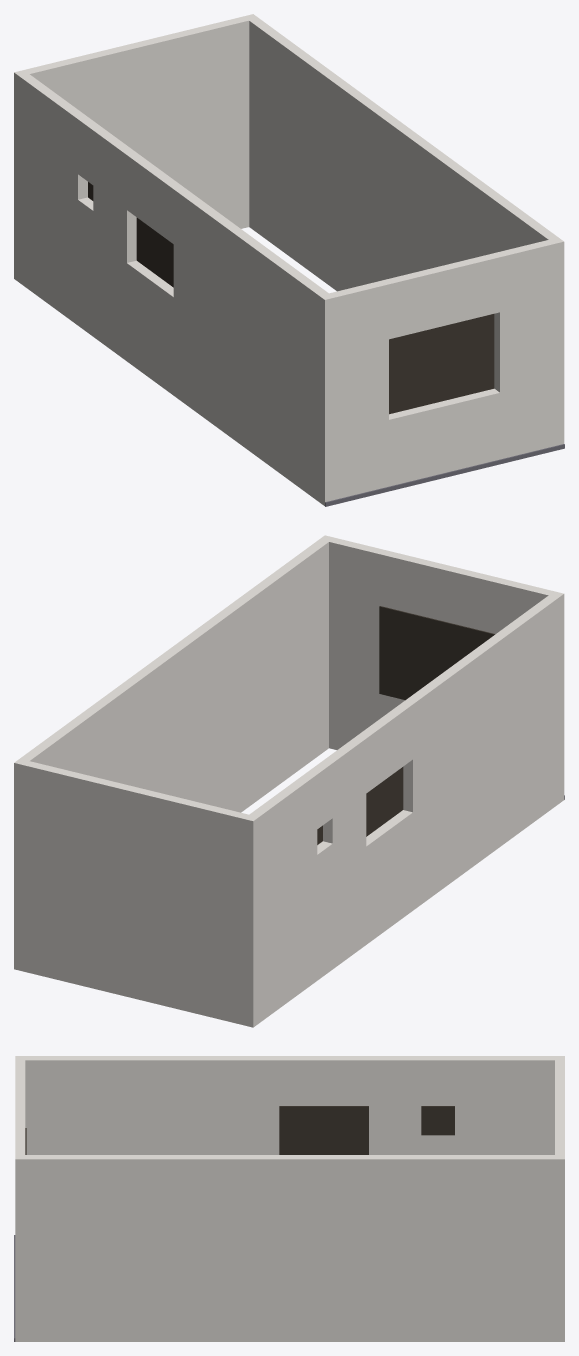
The model's file is SM_Floor_NarrowUpperWindowEndL_White_364_01.gltf.
3 views of the same model, one above another, from view 1: azimuth 30°, elevation 25°; view 2: azimuth 150°, elevation 25°; view 3: azimuth 270°, elevation 25° (orthographic). The views are drawn at different scales.
Parts seen in each view (by area): view 1: SM_Floor_NarrowUpperWindowEndL_White_364_01; view 2: SM_Floor_NarrowUpperWindowEndL_White_364_01; view 3: SM_Floor_NarrowUpperWindowEndL_White_364_01.
Boxes of the visible parts, x1,y1,x2,y2 form: SM_Floor_NarrowUpperWindowEndL_White_364_01: (14, 14, 564, 506); SM_Floor_NarrowUpperWindowEndL_White_364_01: (14, 535, 564, 1027); SM_Floor_NarrowUpperWindowEndL_White_364_01: (14, 1056, 564, 1341).
Size of the model in its own units: 3.64 by 3 by 8.21.
Materials: 1 (1 with a texture image).
